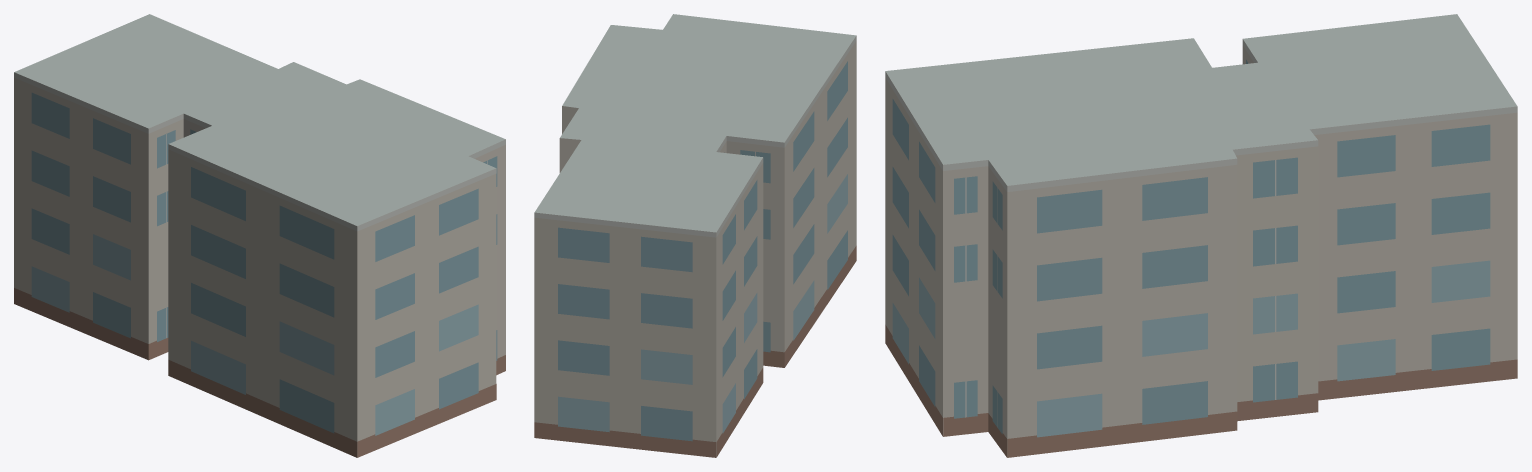
Rendered from survey-upis-32710433.glb.
The picture shows the model from 3 angles, left to right: view 1: azimuth 30°, elevation 25°; view 2: azimuth 150°, elevation 25°; view 3: azimuth 270°, elevation 25°; orthographic projection. The views are drawn at different scales.
Visible parts, largest first — view 1: survey-upis-32710433.tmp; view 2: survey-upis-32710433.tmp; view 3: survey-upis-32710433.tmp.
Boxes of the visible parts, x1,y1,x2,y2 form: survey-upis-32710433.tmp: (14,14,505,457); survey-upis-32710433.tmp: (534,14,856,457); survey-upis-32710433.tmp: (885,14,1517,457).
Size of the model in its own units: 14.52 by 10.7 by 22.56.
